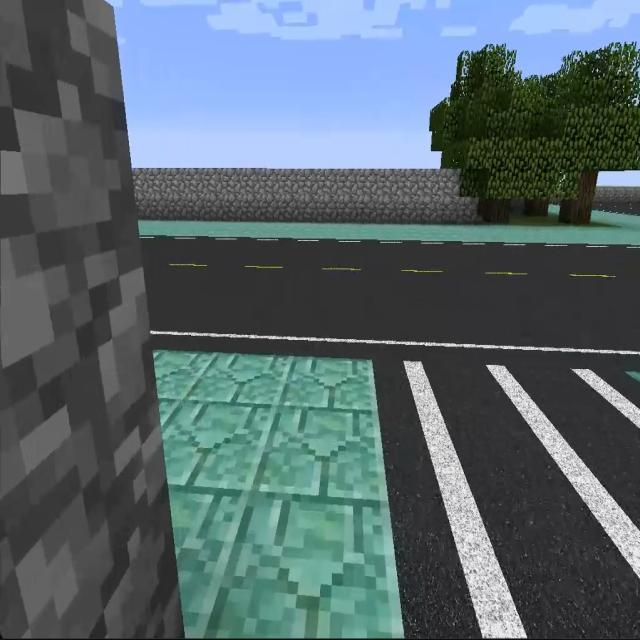crosswalk: (375, 356, 639, 639)
road: (137, 238, 639, 365)
sidewalk: (151, 347, 405, 639), (134, 209, 639, 245), (626, 367, 639, 386), (547, 204, 560, 215)
